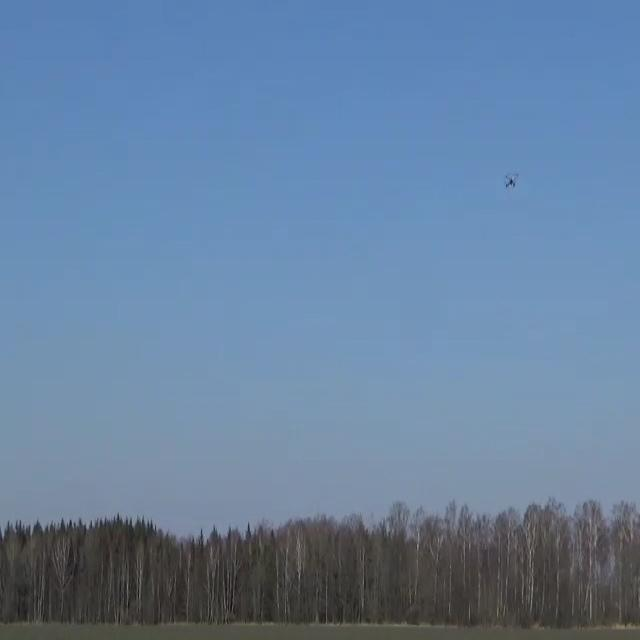drone: (504, 170, 519, 188)
